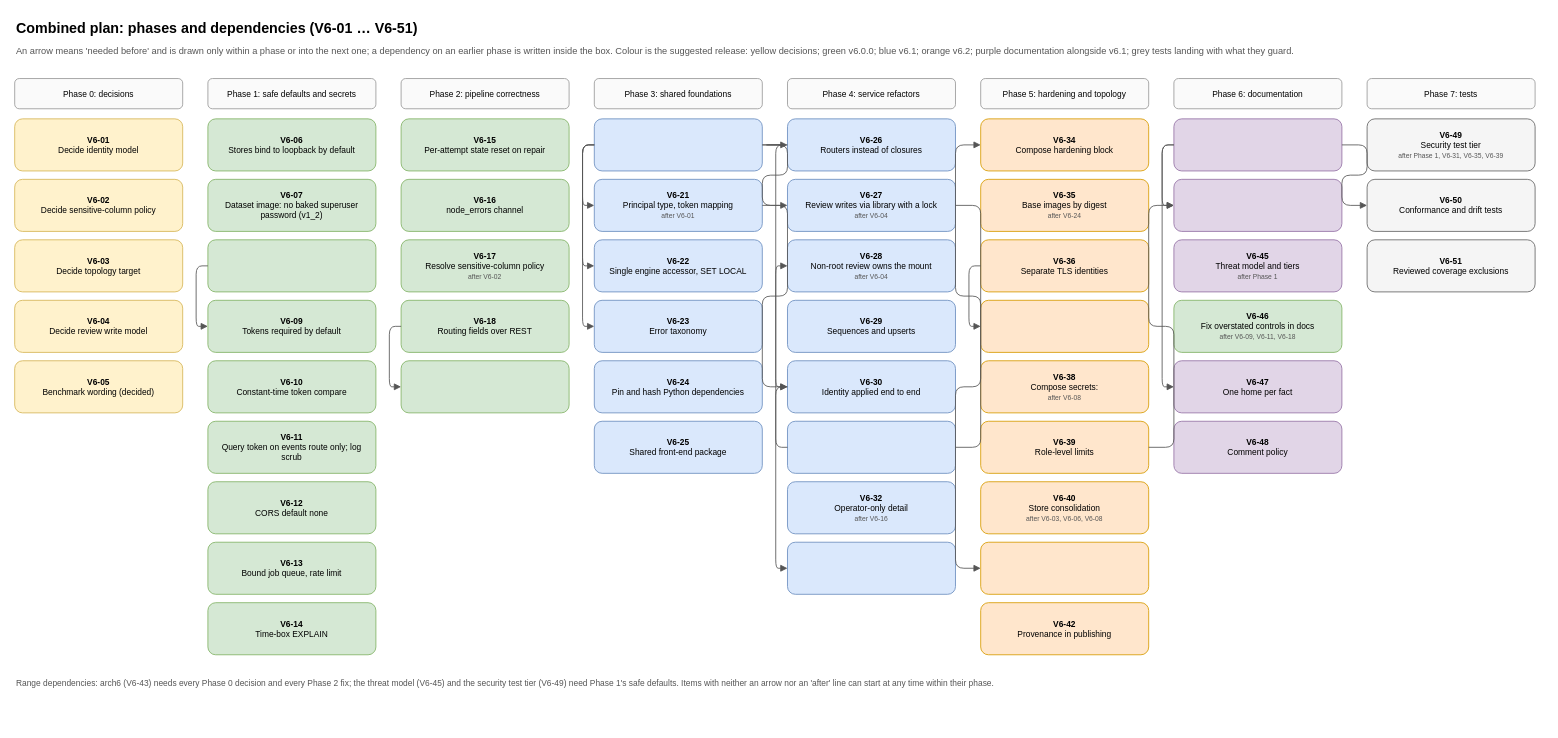
The diagram is 1558 pixels wide and 738 high, and some of its shapes have lost their labels. The box of each missing label's shape, as (x1, y1, x2, y2) in pixels:
V6-08 Generated secrets on first setup: (207, 239, 376, 292)
V6-19 extra=forbid on wire models: (400, 360, 569, 413)
V6-20 Shared Python package: (593, 118, 762, 171)
V6-31 Non-root USER in every image: (787, 420, 956, 473)
V6-33 Cache reload signal: (787, 541, 956, 594)
V6-37 One proxy image, verifying healthcheck after V6-25: (980, 299, 1149, 352)
V6-41 Orchestration in Python: (980, 541, 1149, 594)
V6-43 arch6 spec after Phase 0, Phase 2: (1173, 118, 1342, 171)
V6-44 Verified security blueprint: (1173, 178, 1342, 231)
